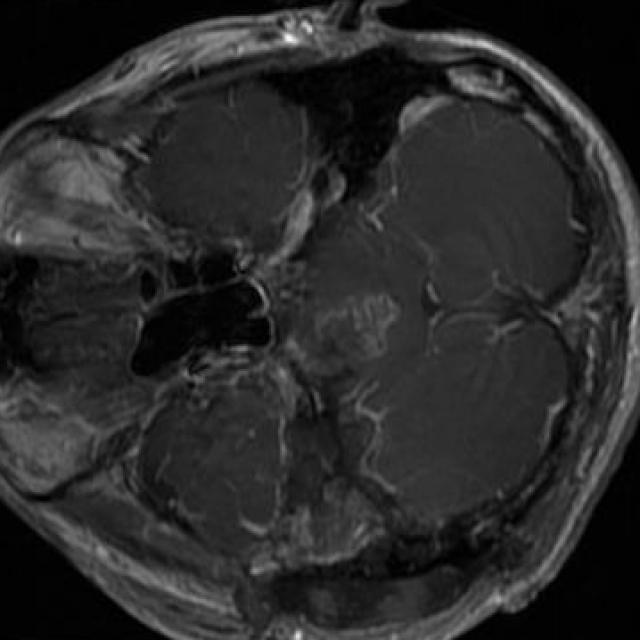glioma: (294, 294, 399, 376)
